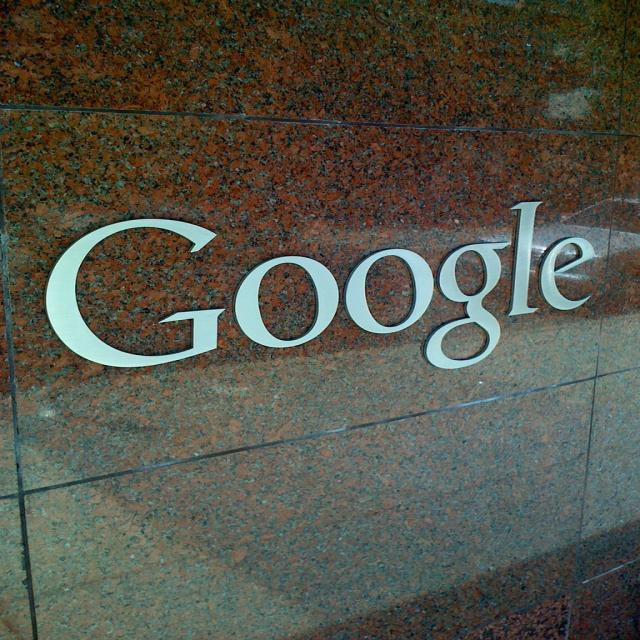google: (27, 184, 606, 383)
